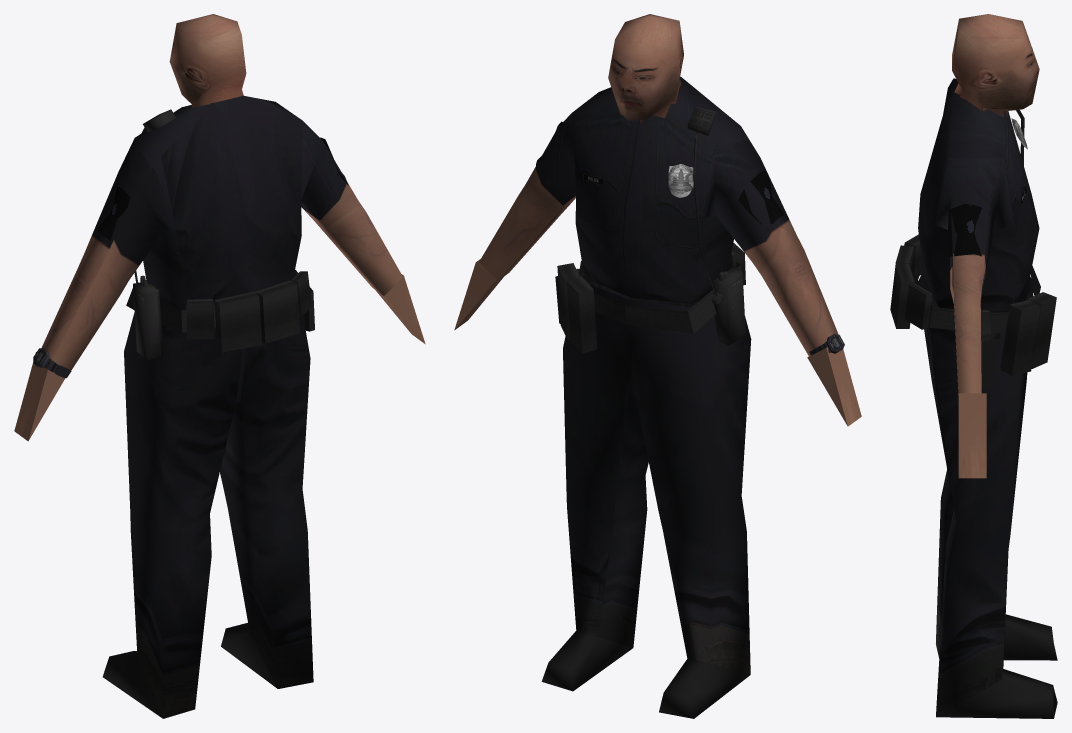
File: s_m_y_cop_01.glb
The picture shows the model from 3 angles, left to right: view 1: azimuth 30°, elevation 25°; view 2: azimuth 150°, elevation 25°; view 3: azimuth 270°, elevation 25°; orthographic projection.
Visible parts, largest first — view 1: skel_root_001; view 2: skel_root_001; view 3: skel_root_001.
Part boxes in pixels (box(x1,y1,x2,y2)): skel_root_001: box(14, 14, 425, 718); skel_root_001: box(454, 14, 861, 718); skel_root_001: box(890, 14, 1057, 718).
Bounding box in the file's own units: 1.15 × 1.84 × 0.4185.
Materials: 6 (6 with a texture image).
